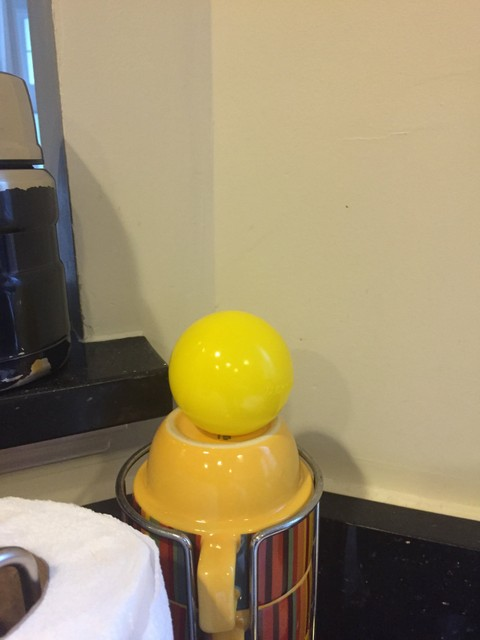ball: (170, 307, 293, 438)
